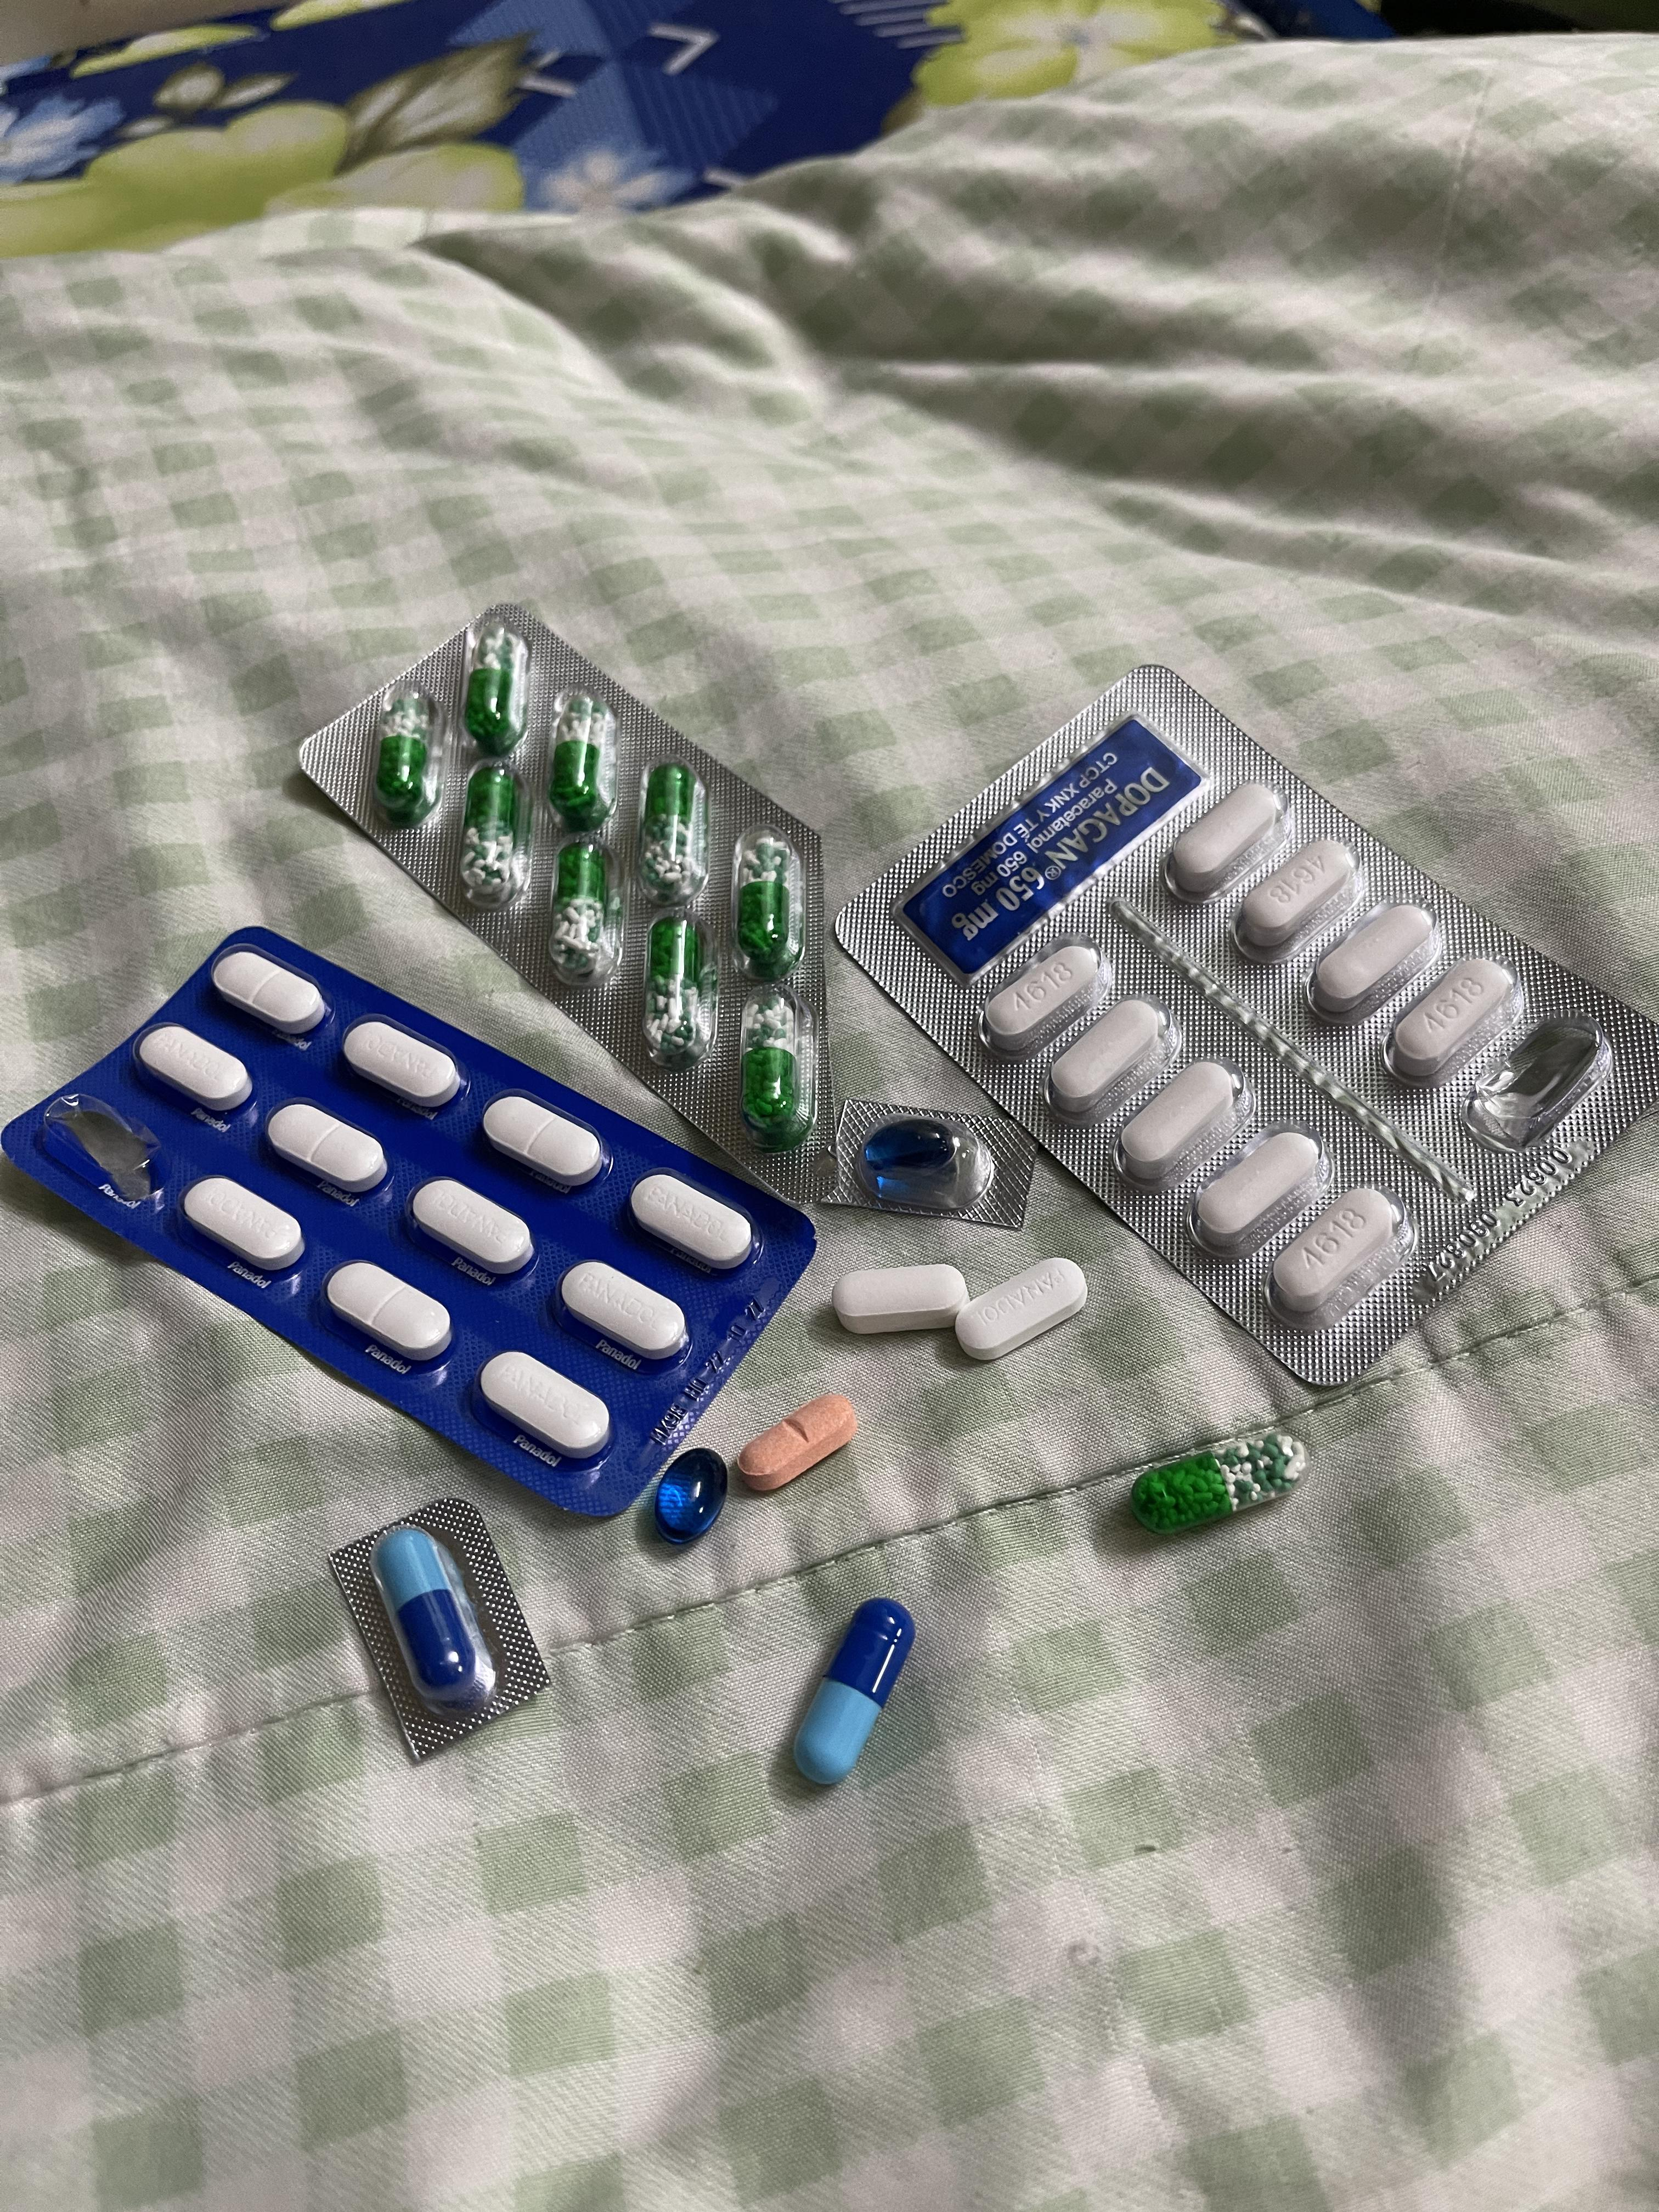Lincomyxin_500mg: (652, 1446, 730, 1538), (864, 1120, 957, 1170)
Loratadine_10mg: (739, 1392, 849, 1486)
Paracetamol_350mg: (479, 1352, 612, 1458), (962, 1254, 1089, 1359), (326, 1261, 451, 1364), (558, 1261, 687, 1360), (631, 1172, 758, 1271), (181, 1177, 307, 1275), (481, 1092, 605, 1188), (411, 1179, 535, 1275), (265, 1101, 387, 1195), (343, 1019, 464, 1111), (211, 946, 329, 1036), (138, 1024, 254, 1113)
Paracetamol_500mg: (1270, 1184, 1415, 1327), (1387, 953, 1520, 1089), (1117, 1055, 1244, 1190), (1188, 1129, 1323, 1256), (1305, 900, 1438, 1028), (1046, 993, 1171, 1123), (983, 941, 1108, 1064), (1232, 834, 1358, 954), (1168, 782, 1288, 902), (833, 1264, 965, 1336)
Paracetamol_650mg: (1131, 1435, 1307, 1533), (549, 840, 626, 988), (641, 916, 714, 1068), (732, 829, 802, 981), (742, 993, 812, 1143), (636, 761, 706, 906), (545, 693, 615, 829), (373, 688, 441, 826), (460, 765, 526, 906), (465, 624, 530, 754)
pill: (376, 1526, 498, 1714), (789, 1597, 908, 1785)
